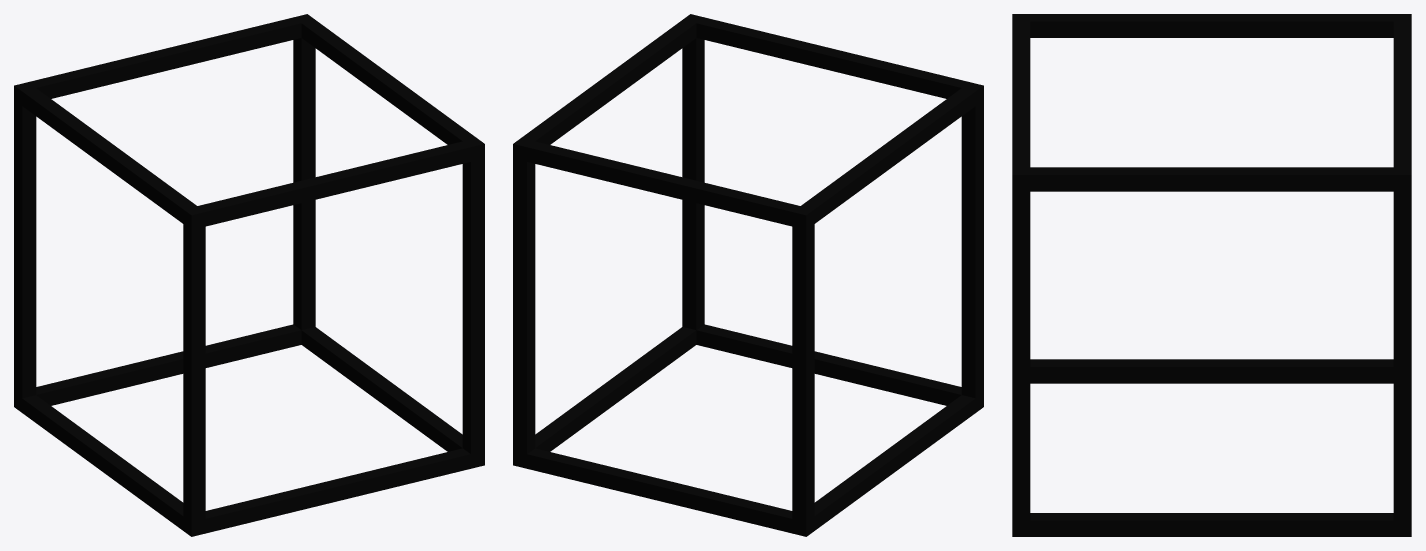
The picture shows the model from 3 angles, left to right: view 1: azimuth 30°, elevation 25°; view 2: azimuth 150°, elevation 25°; view 3: azimuth 270°, elevation 25°; orthographic projection. The views are drawn at different scales.
Visible parts, largest first — view 1: cube (×12); view 2: cube (×12); view 3: cube (×8).
Part boxes in pixels (bbox=[...]): cube (×12): bbox=[14, 14, 484, 536]; cube (×12): bbox=[513, 14, 983, 536]; cube (×8): bbox=[1012, 14, 1411, 536].
Size of the model in its own units: 0.0656 by 0.0688 by 0.0688.
Materials: 1 (1 with a texture image).
